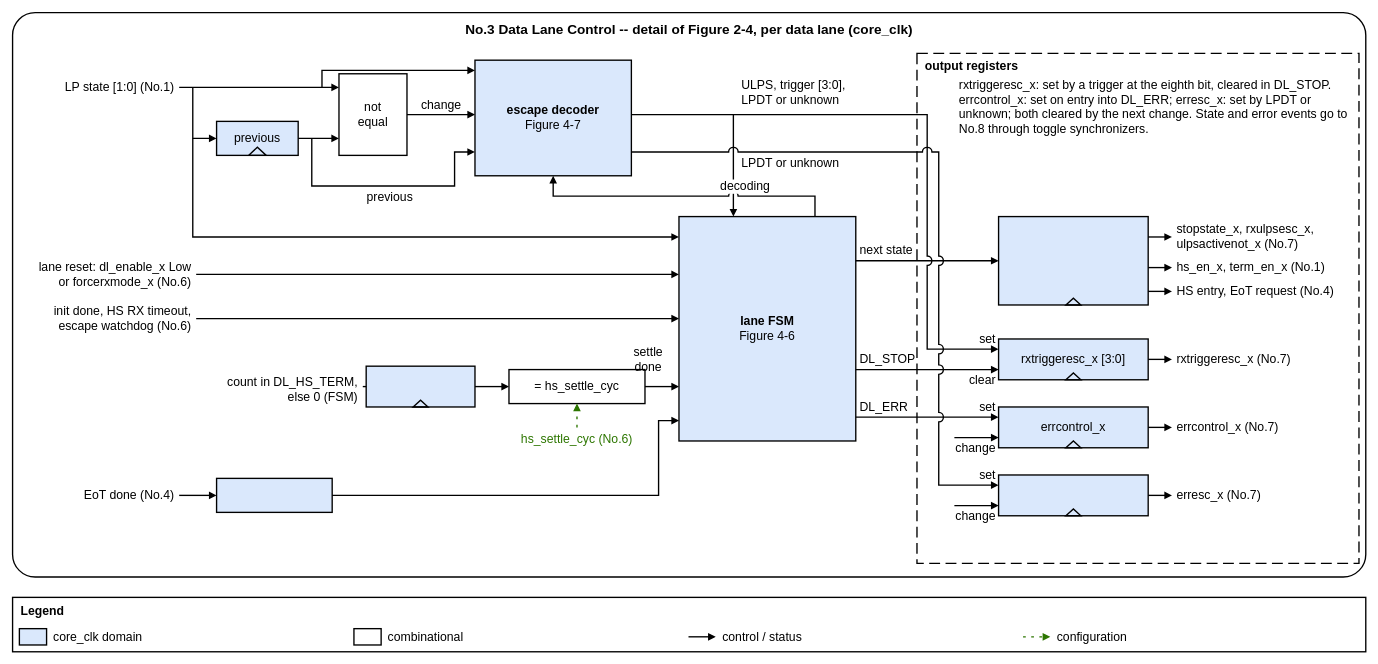
Some shapes in this 1378 by 664 pixel diagram are drawn without their labels. The shapes that lost their labels are listed below. From the top down, each one's centre as x and y in pixels, then its label:
At (x=1073, y=260): "state outputs (from the next state)".
At (x=420, y=386): "settle counter".
At (x=274, y=495): "toggle sync (Figure 4-1)".
At (x=1073, y=495): "erresc_x".
